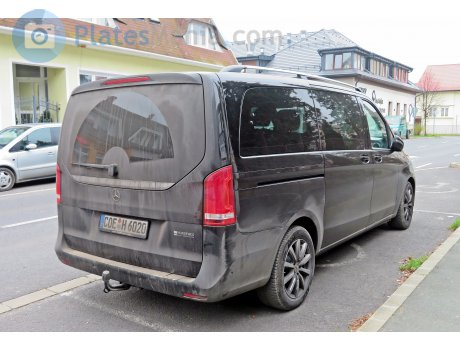License Plates: (111, 215, 143, 229)
